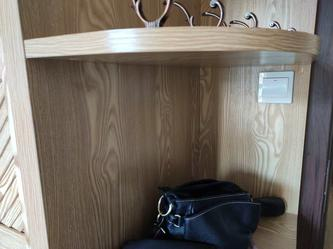switch: (260, 74, 292, 100)
